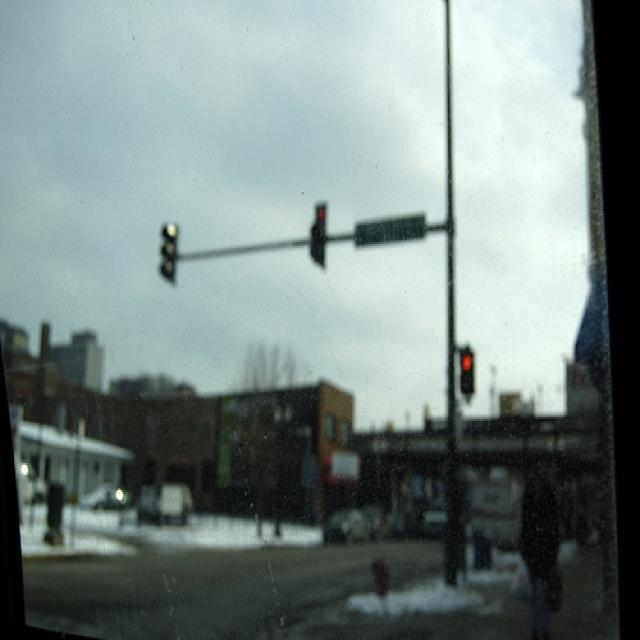Vehicle: (136, 484, 194, 528), (330, 508, 372, 543), (78, 482, 125, 511), (422, 503, 451, 537), (358, 505, 383, 544), (382, 511, 410, 538)
